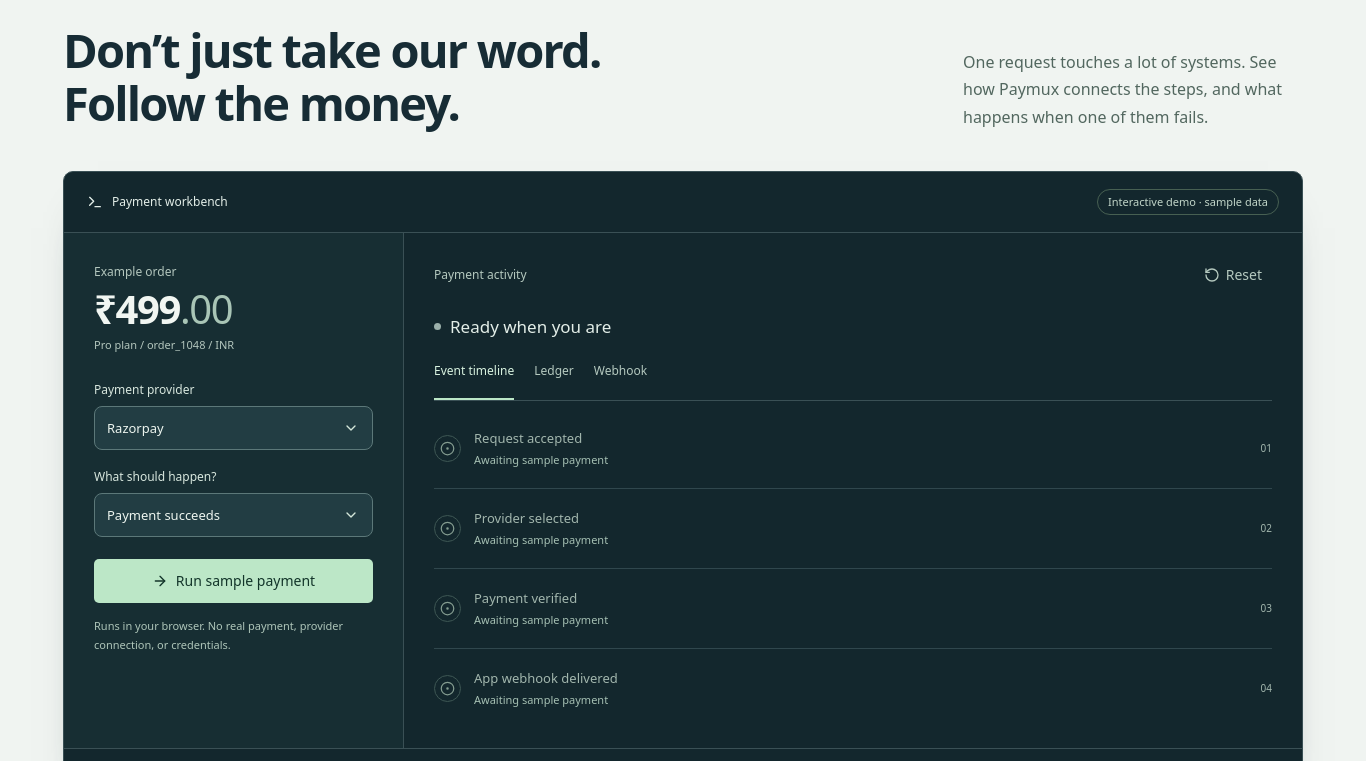
Test: public product demo › shows empty inspectors and cancels an in-flight sample
(page scrolled)
Press the mouse on the tab "Ledger" at {"x": 554, "y": 378}, box [534,356,574,400]
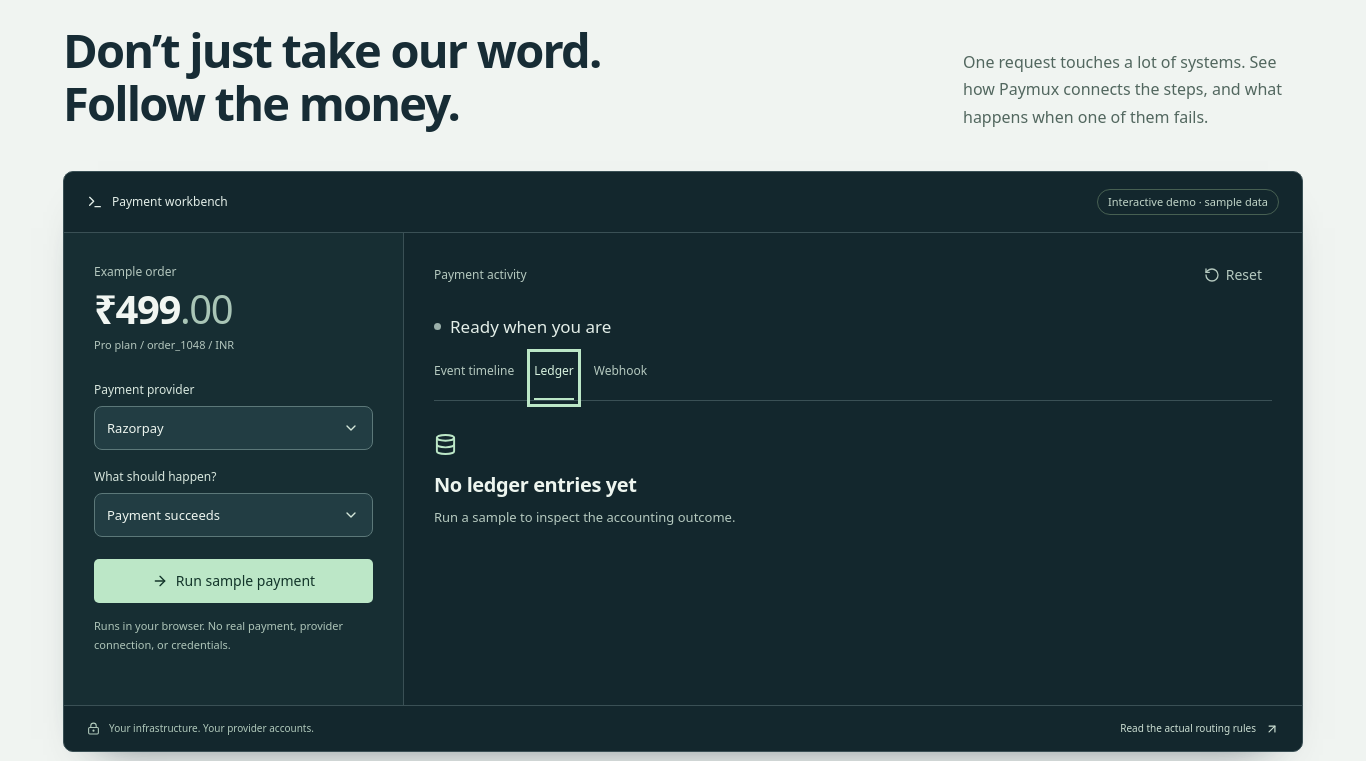
Expected: the heading "No ledger entries yet" is shown, [434,471,636,498]
Press the mouse on the tab "Webhook" at {"x": 620, "y": 378}, box [594,356,647,400]
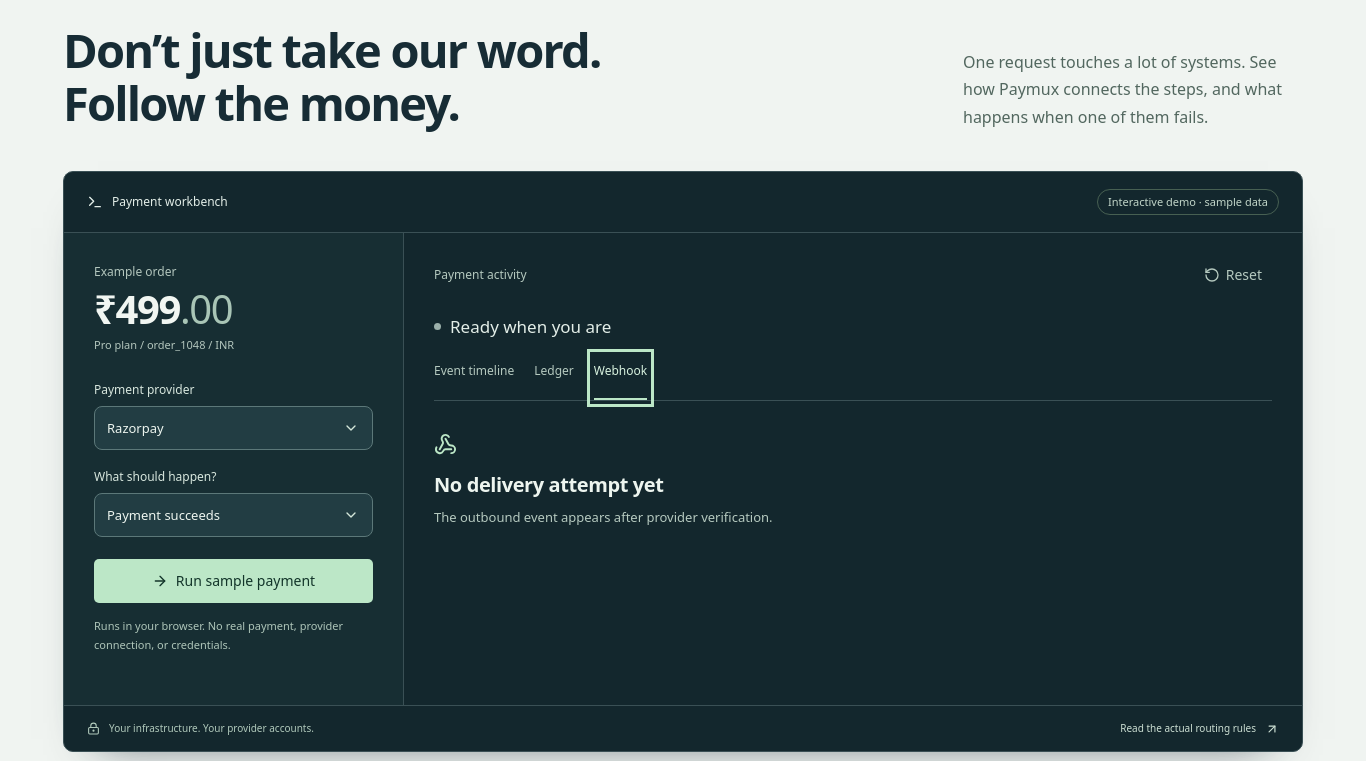
Expected: the heading "No delivery attempt yet" is shown, [434,471,664,498]
Click the button "Run sample payment".
click(234, 581)  # box [94,559,373,603]
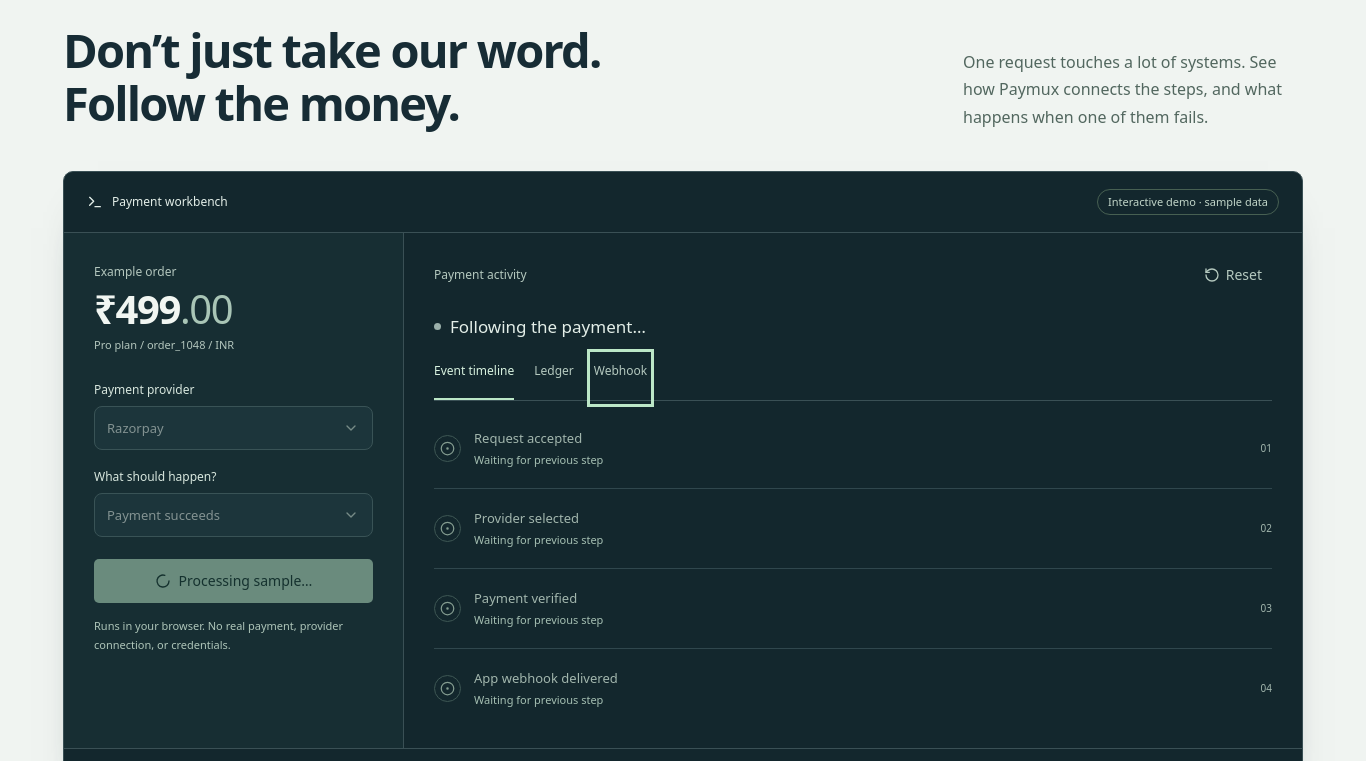
Expected: the message shows "Following the payment", [450,315,646,338]
Click the button with aria-label "Reset payment demo".
click(1233, 275)  # box [1194,253,1272,297]
Wait 2000 ms
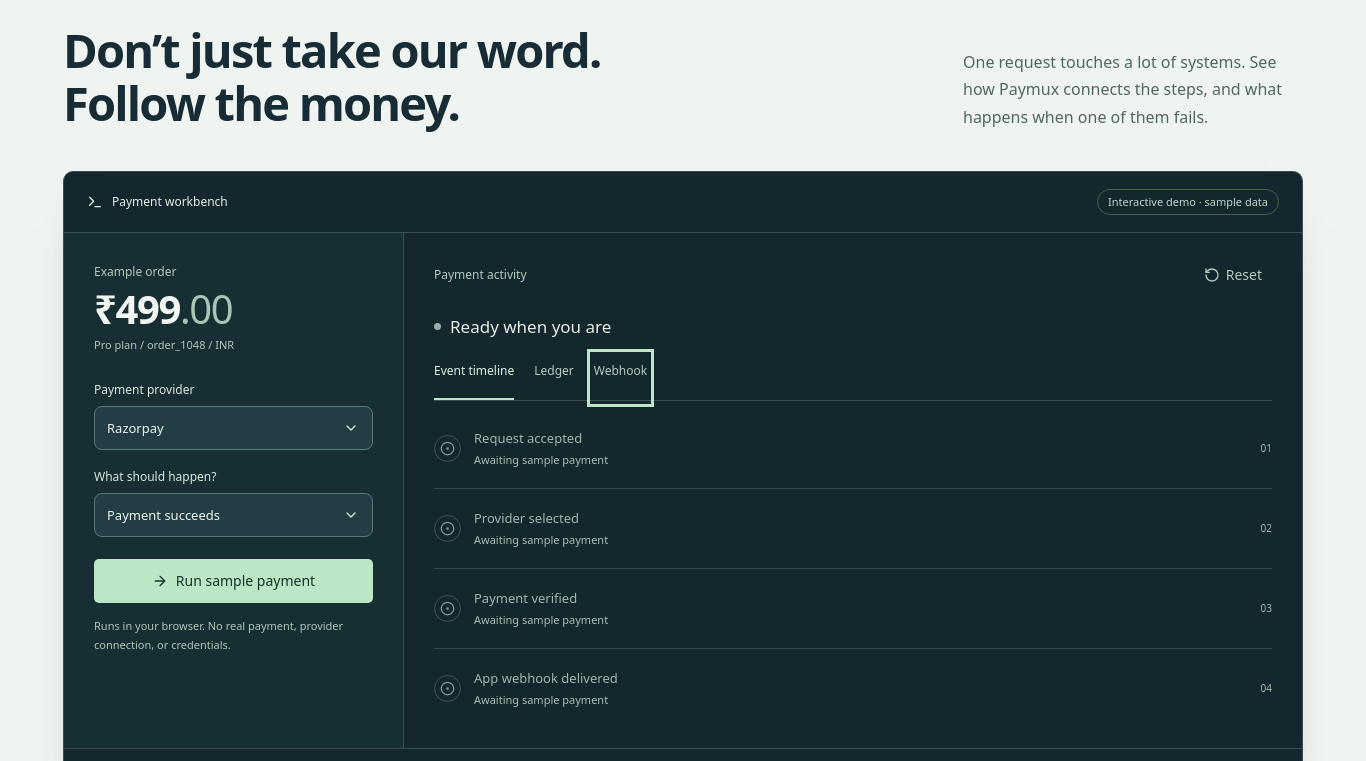
Expected: the message reads "Ready when you are", [450,315,611,338]
